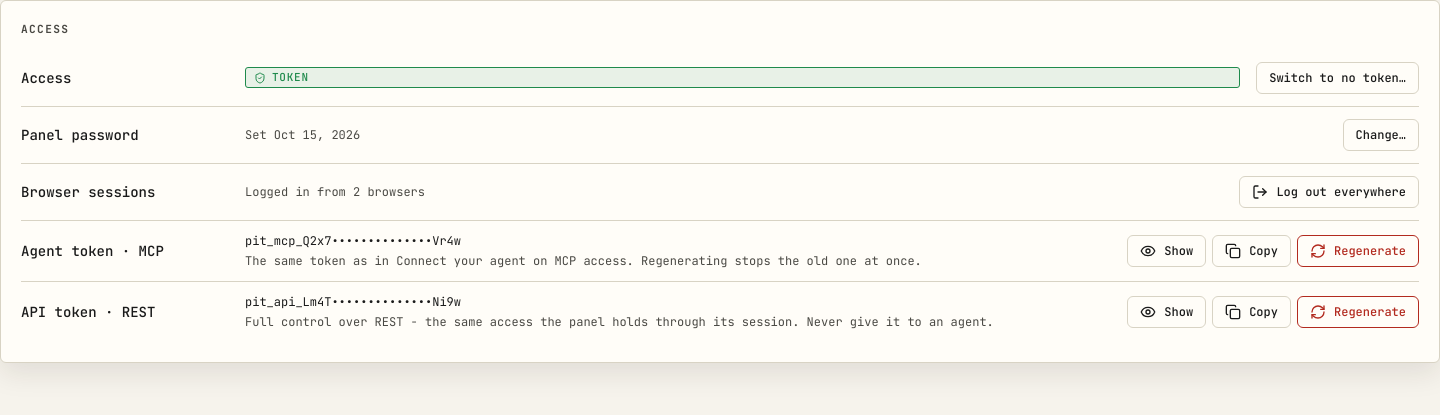
it: AccessSection › in token access › keeps the session when logging out everywhere fails
Click the button "Log out everywhere": (1329,192) [1239,176,1419,208]
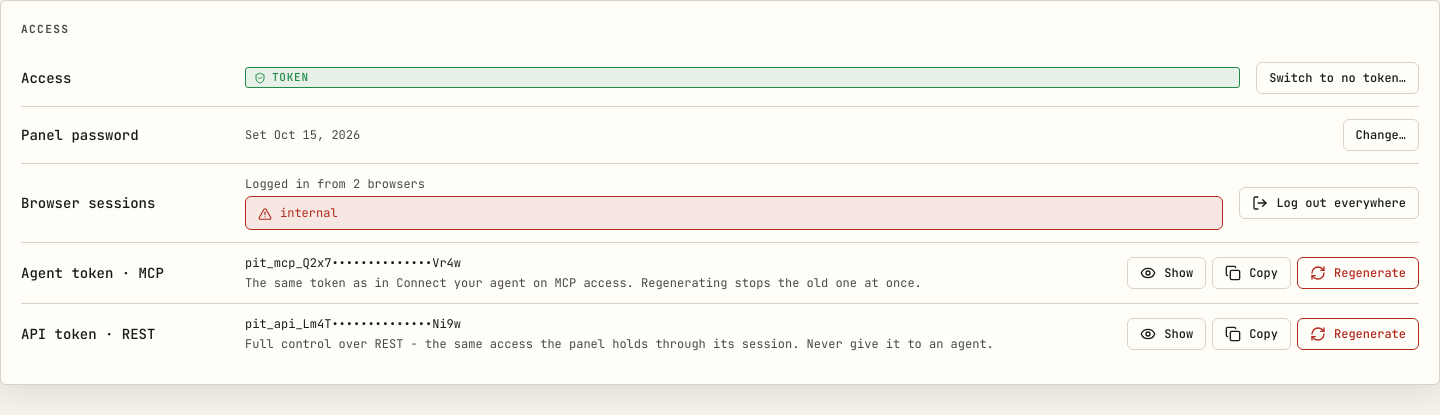
expect the message reads "internal": met, box [280,205,338,221]
